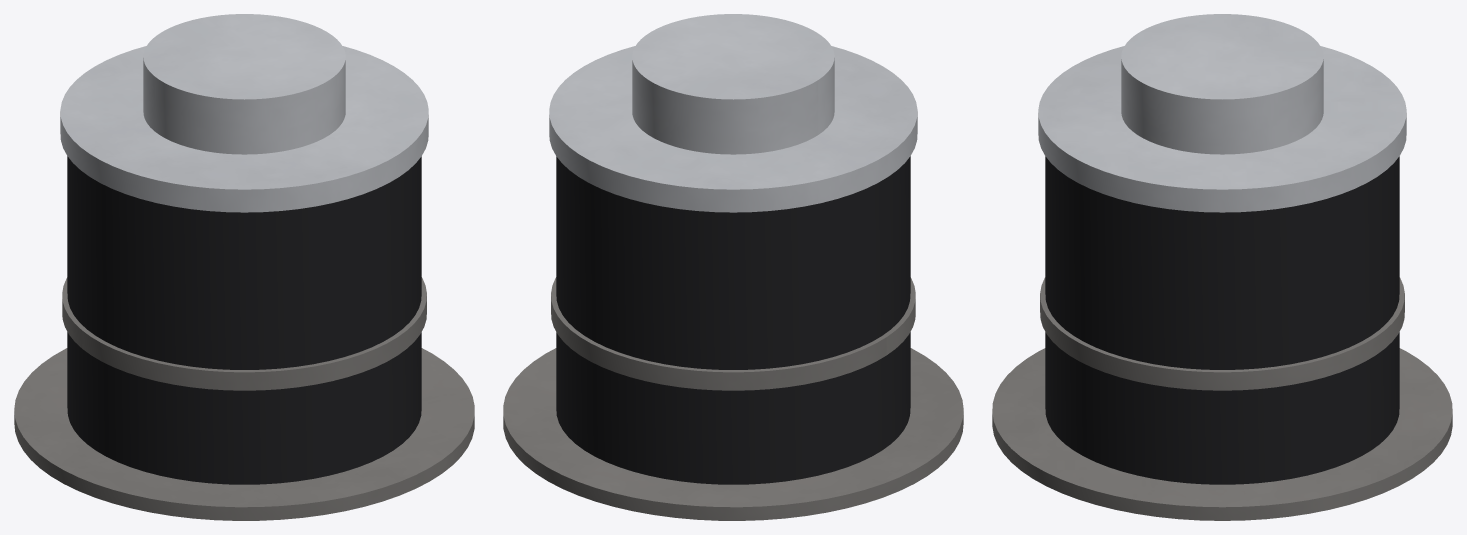
Rendered from stage09_dgb_chute.glb.
3 renders of one model, left to right at view 1: azimuth 30°, elevation 25°; view 2: azimuth 150°, elevation 25°; view 3: azimuth 270°, elevation 25°, orthographic.
Visible parts, largest first — view 1: canister, lid, base_flange, mortar, band; view 2: canister, lid, base_flange, mortar, band; view 3: canister, lid, base_flange, mortar, band.
Part boxes in pixels (box(x1,y1,x2,y2)): canister: box(67, 156, 421, 484); lid: box(60, 46, 428, 212); base_flange: box(14, 348, 474, 520); mortar: box(143, 14, 345, 154); band: box(62, 277, 426, 390); canister: box(556, 156, 910, 484); lid: box(549, 46, 917, 212); base_flange: box(503, 348, 963, 520); mortar: box(632, 14, 834, 154); band: box(551, 277, 915, 390); canister: box(1045, 156, 1399, 484); lid: box(1038, 46, 1406, 212); base_flange: box(992, 348, 1452, 520); mortar: box(1121, 14, 1323, 154); band: box(1040, 277, 1404, 390).
Bounding box in the file's own units: 0.9095 × 0.8 × 0.9097.
3 materials, 2 textured.
